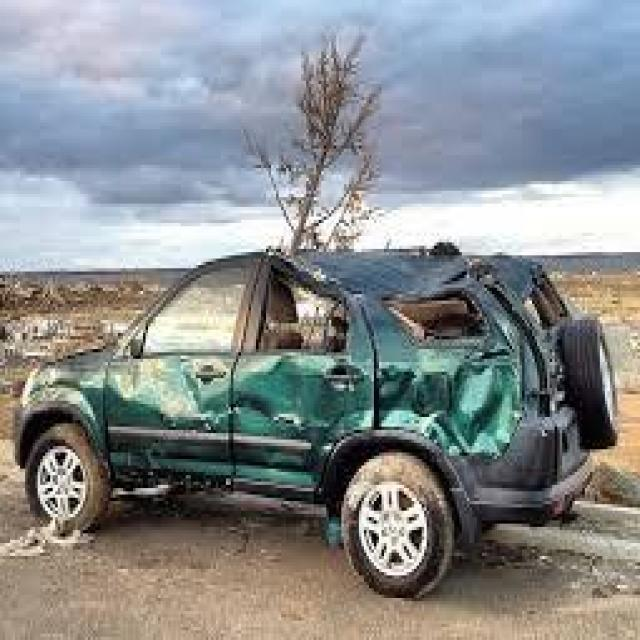damaged: (253, 249, 568, 456), (108, 362, 201, 427), (198, 384, 256, 430)
